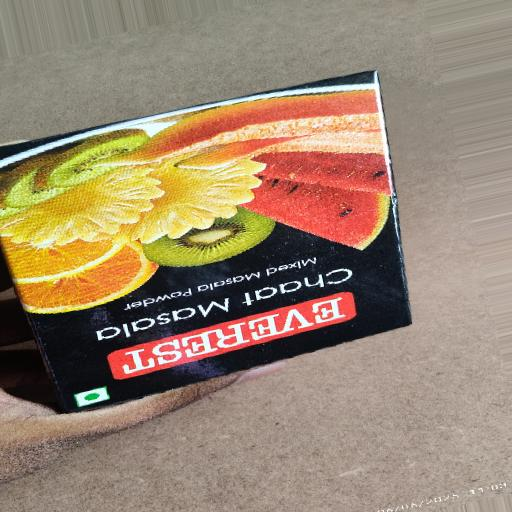Everest Chaat Masala: (0, 52, 427, 444)
